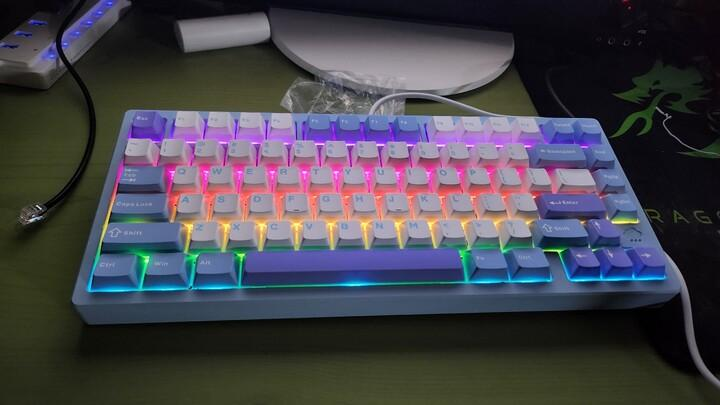keyboard: (70, 109, 681, 325)
